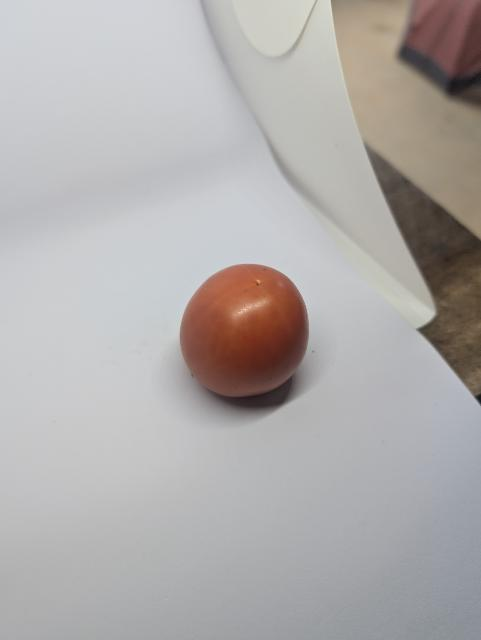red: (178, 245, 313, 424)
